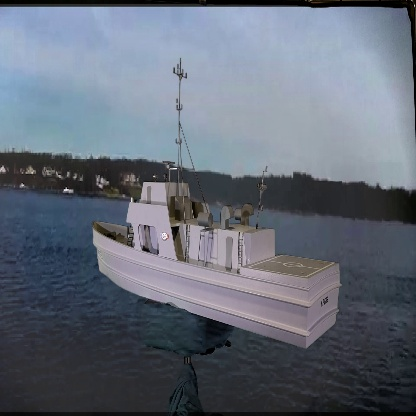YP689: (91, 61, 341, 351)
